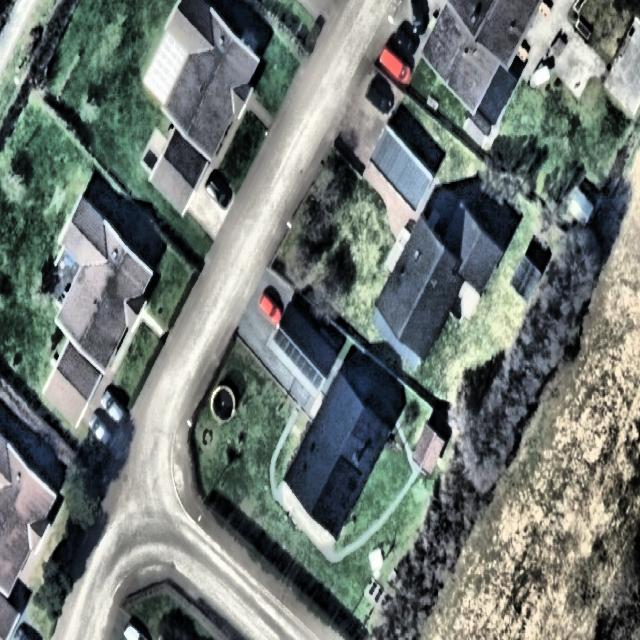roof_pv: (314, 457, 364, 537), (292, 348, 324, 390), (268, 324, 297, 364), (352, 412, 386, 445)
